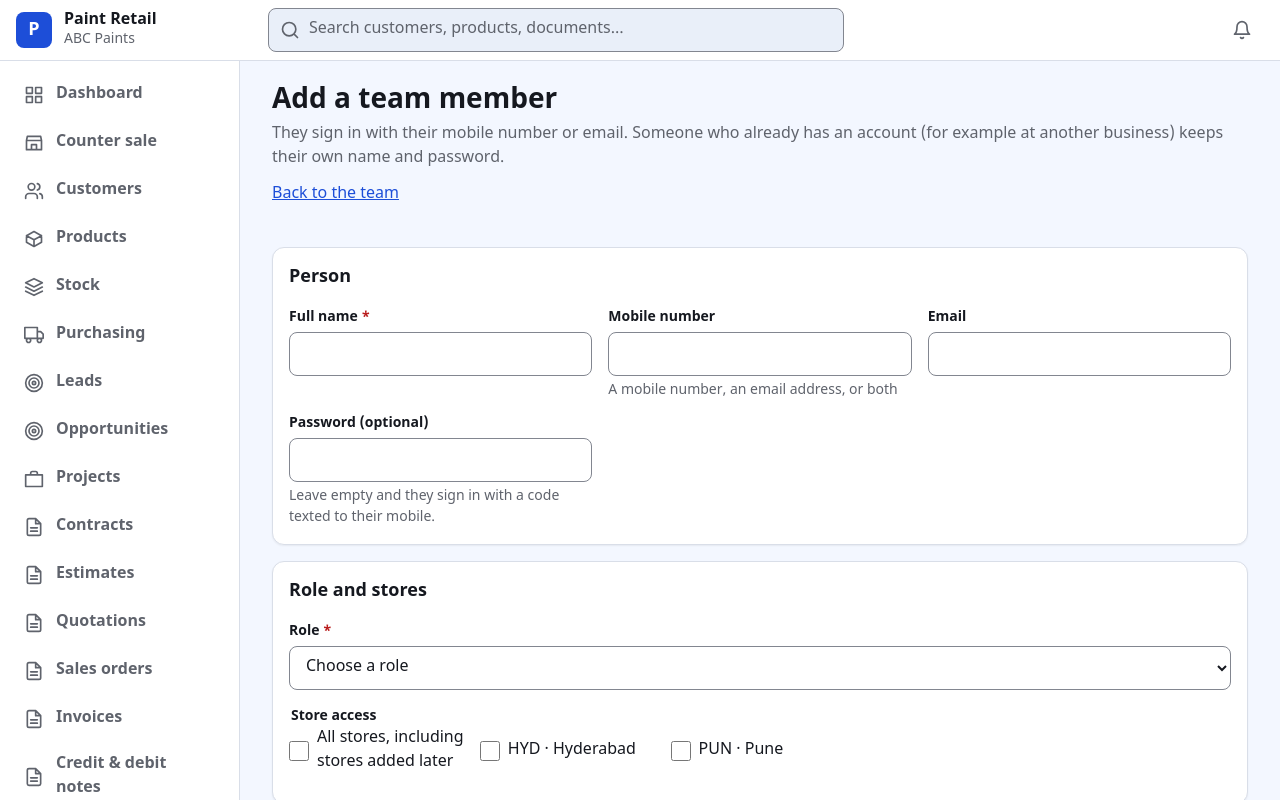
Scenario: adding a team member › adds someone by email with a password and access to every store
The width and height of the screenshot is (1280, 800).
Type "Kiran Admin" into the field labelled "Full name *".
click(441, 354); type("Kiran Admin")  # box x1=289 y1=332 x2=592 y2=376
Type "kiran@abc.in" into the field labelled "Email".
click(1079, 354); type("kiran@abc.in")  # box x1=928 y1=332 x2=1231 y2=376
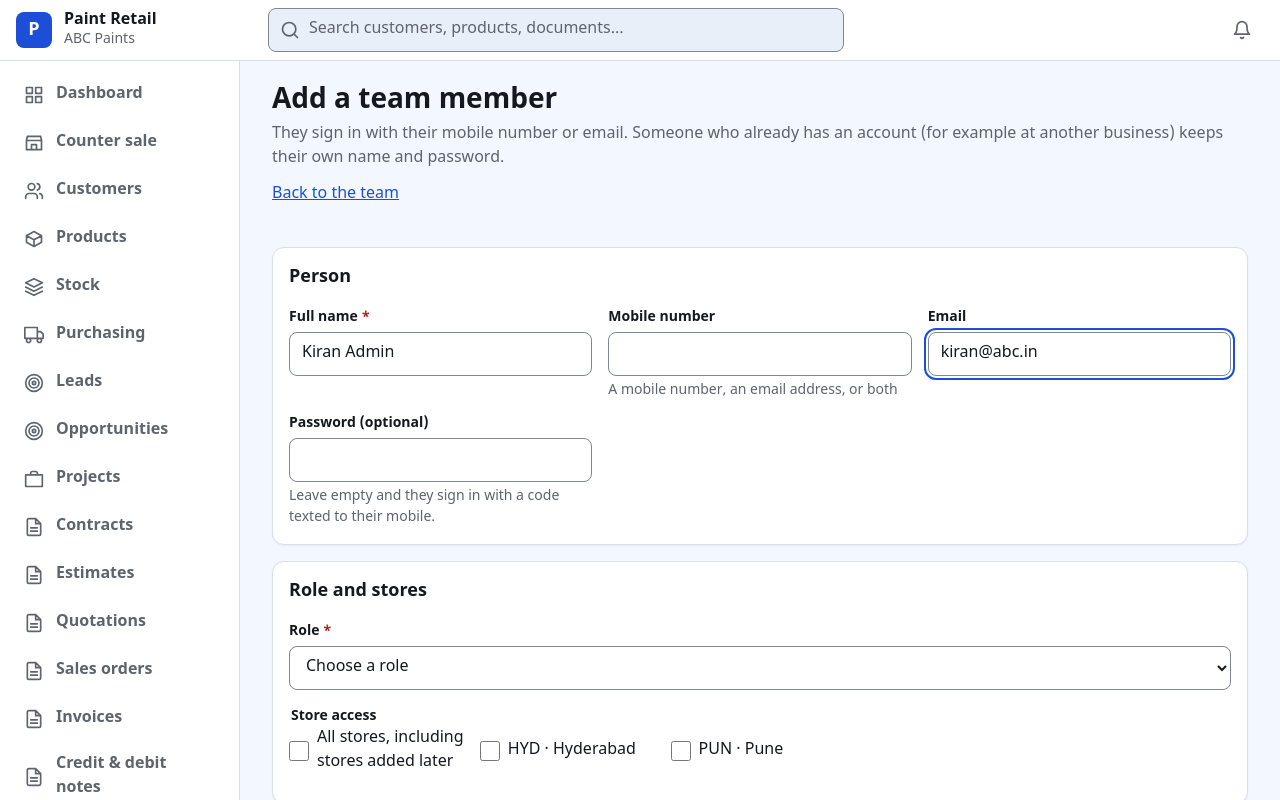
Type "Kiran@2026" into the password field labelled "Password (optional)".
click(441, 460); type("Kiran@2026")  # box x1=289 y1=438 x2=592 y2=482
(page scrolled)
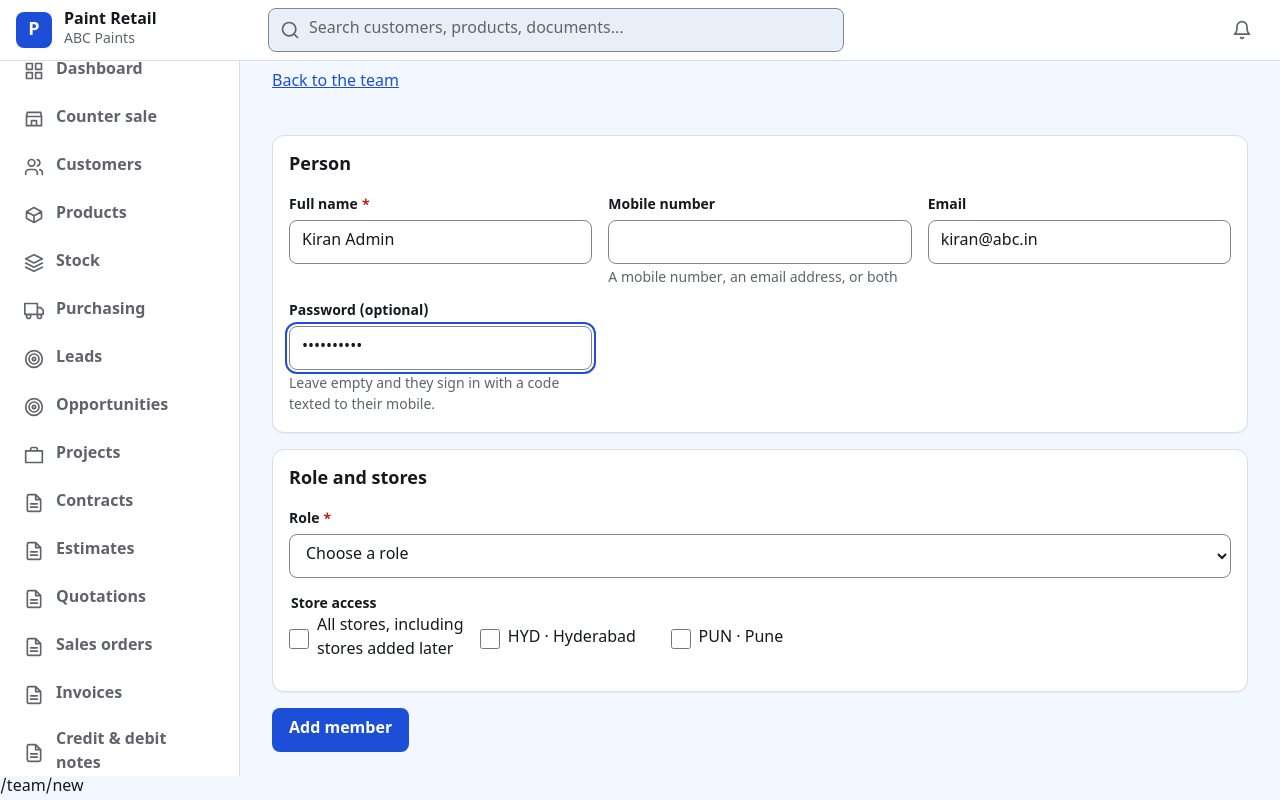
Click the button "Add member".
click(341, 730)  # box x1=272 y1=708 x2=409 y2=752
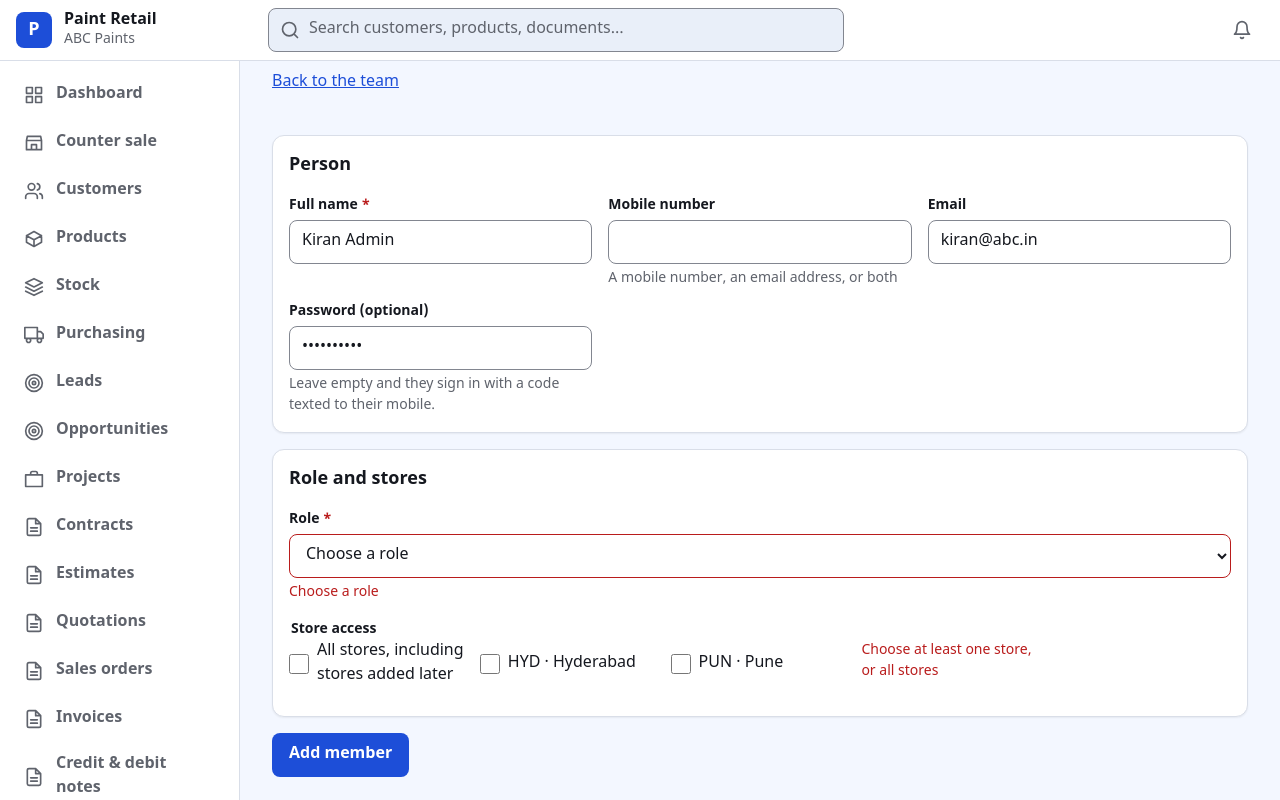
expect the text "Choose a role" is shown: met, box x1=289 y1=583 x2=379 y2=602
Select "Organization Admin" in the dropdown labelled "Role *" at (760, 556), box x1=289 y1=534 x2=1231 y2=578
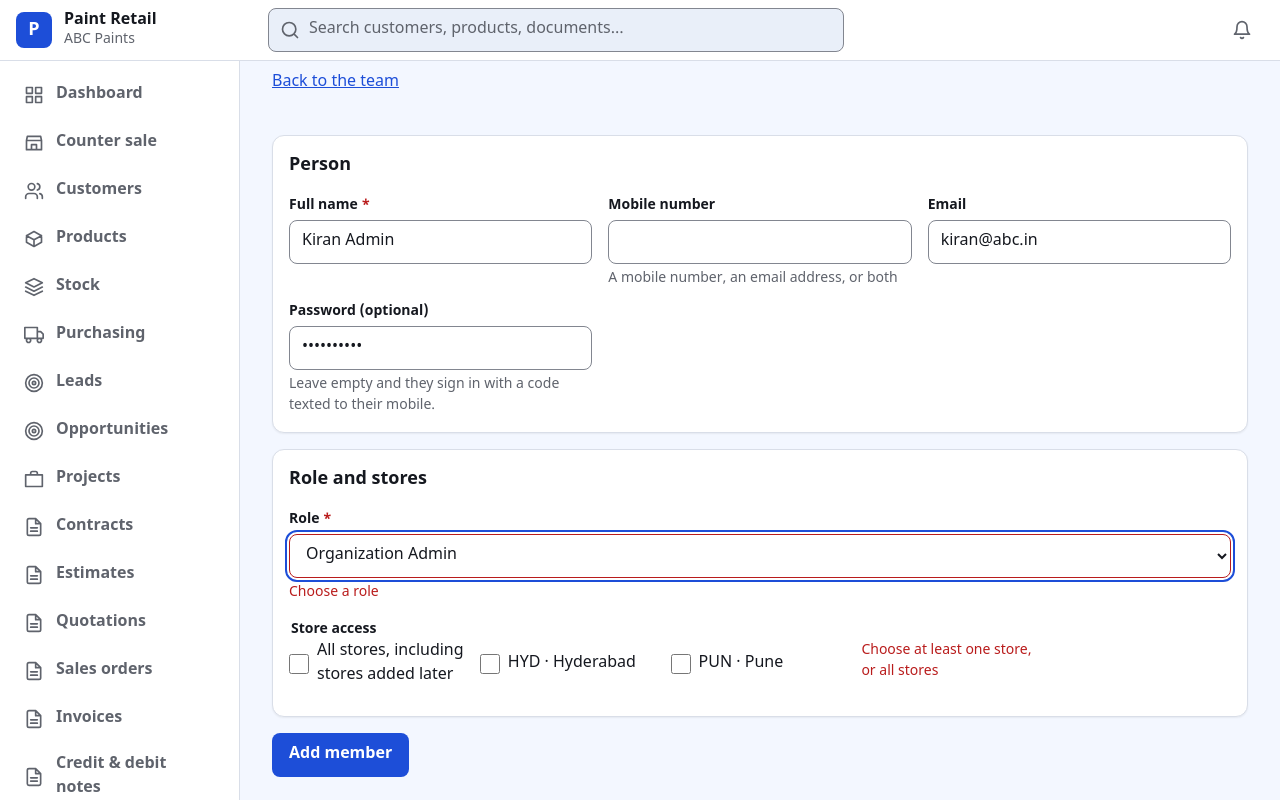
Click the checkbox labelled "All stores, including stores added later".
click(299, 664)  # box x1=289 y1=654 x2=309 y2=674
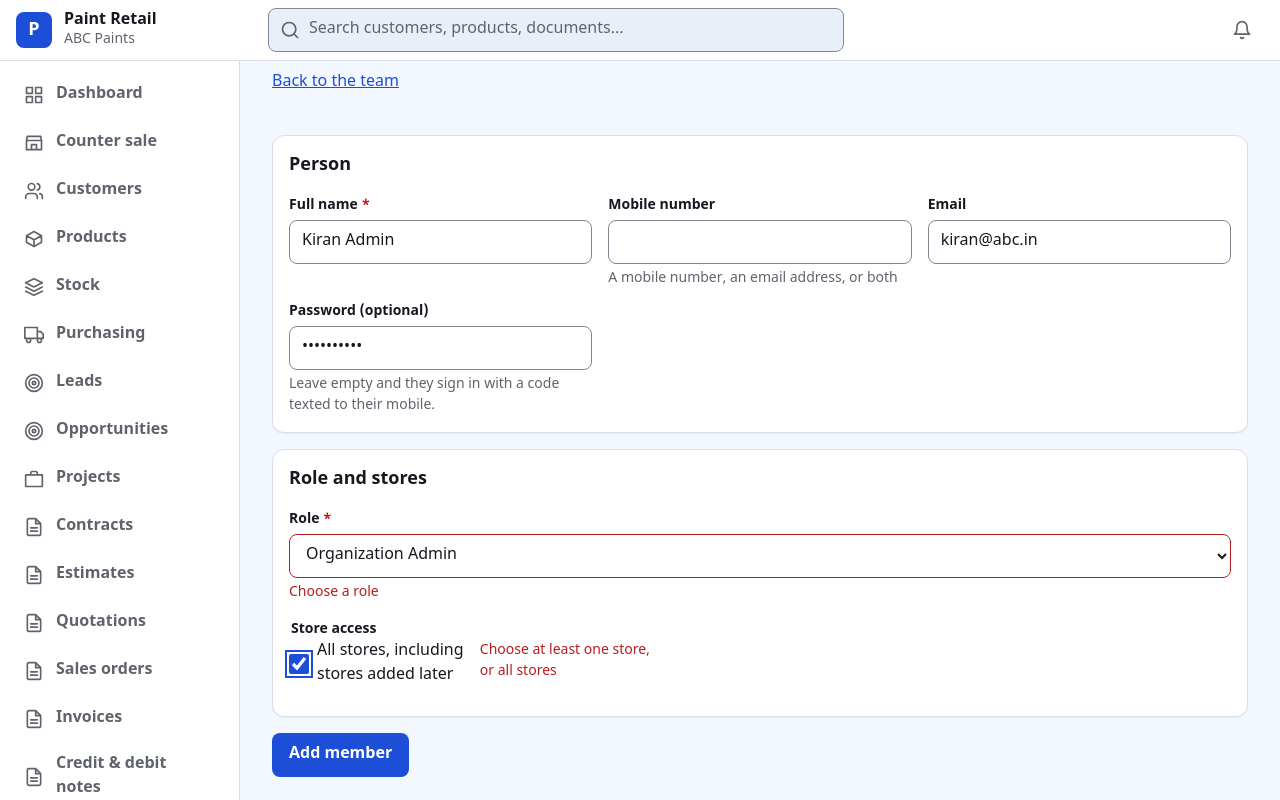
expect the text "HYD · Hyderabad" is gone: met
Click the button "Add member".
click(341, 755)  # box x1=272 y1=733 x2=409 y2=777
(page scrolled)
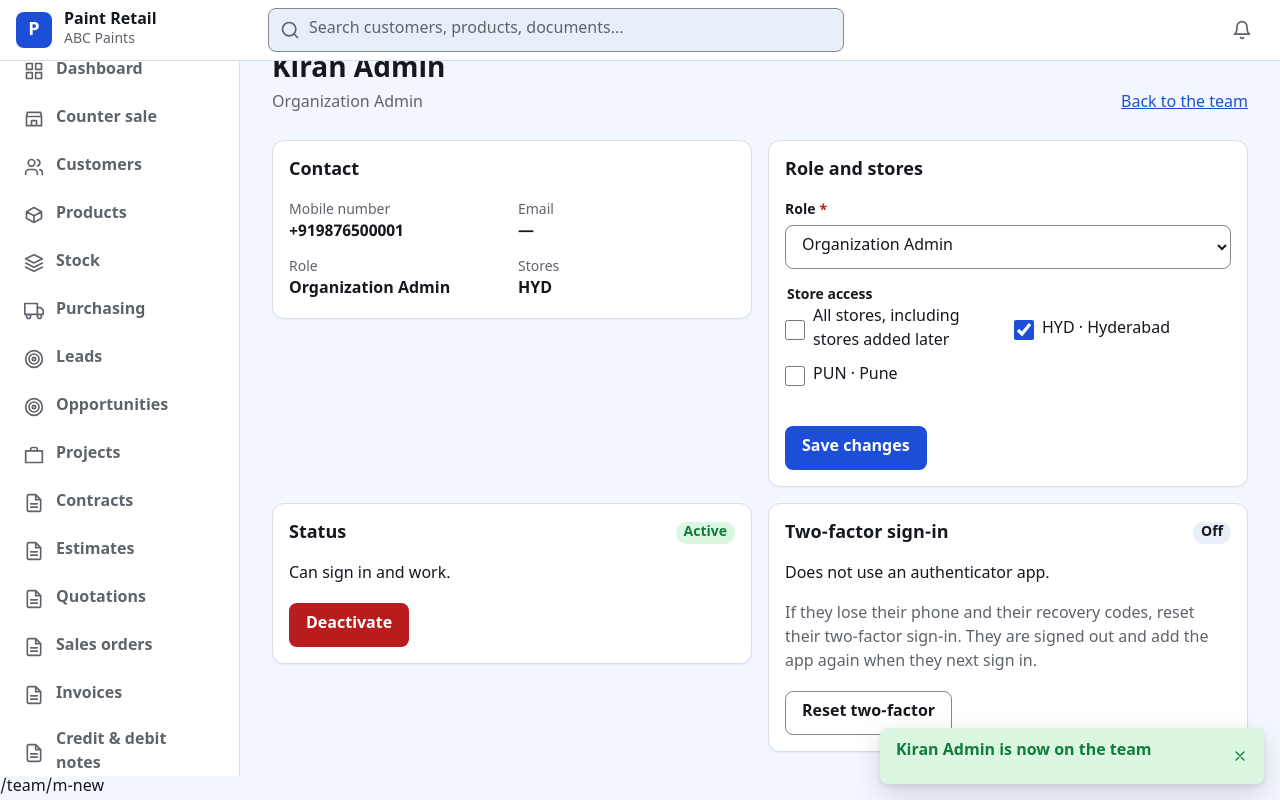
expect the text "Kiran Admin is now on the team" is shown: met, box x1=896 y1=741 x2=1152 y2=762
